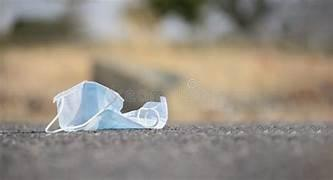Mask: (45, 81, 167, 132)
